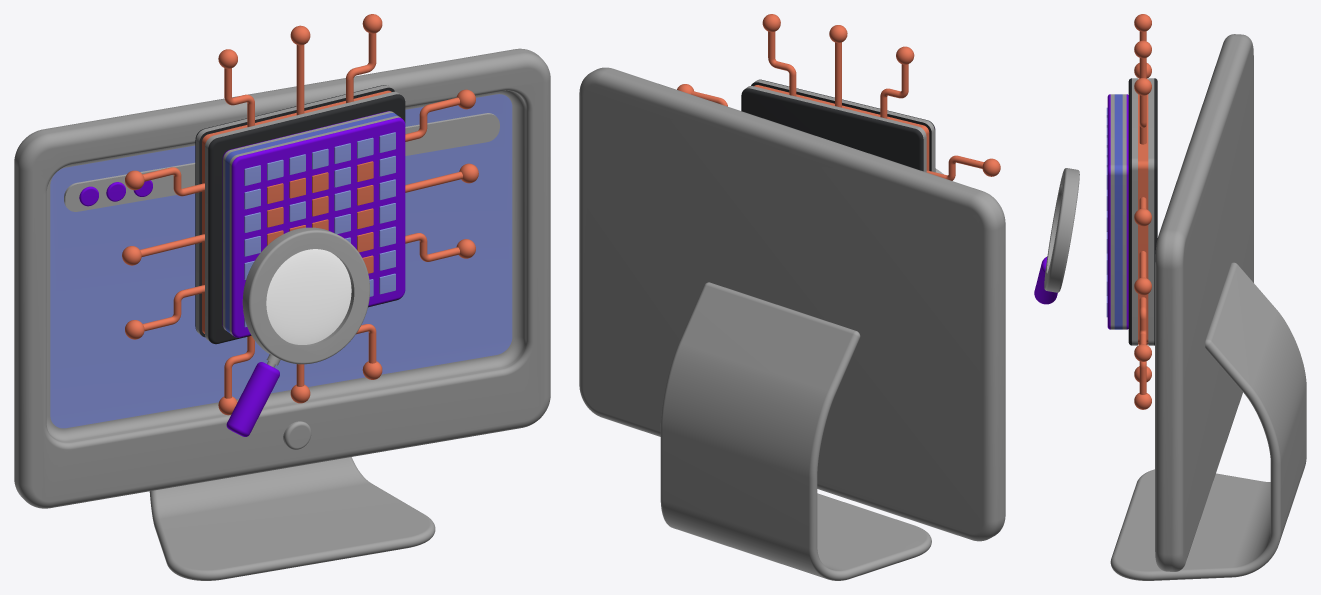
Rendered from ai-research-animated-icon-1115740729801.glb.
3 renders of one model, left to right at view 1: azimuth 30°, elevation 25°; view 2: azimuth 150°, elevation 25°; view 3: azimuth 270°, elevation 25°, orthographic. The views are drawn at different scales.
Visible parts, largest first — view 1: Cube.004, Plane.011, Cube.007, Sphere.002, Cube.005, Cylinder.005, Sphere.004, Cube.008, Plane.009, Cube.002, Cube.001, Cube.006 (+5 smaller); view 2: Cube.004, Plane.011, Cube.005, Sphere.002, Cube.001, Cube; view 3: Cube.004, Plane.011, Sphere.002, Cube.001, Cylinder.005, Cube.006, Cube.003, Cube.005, Cube.007, Cube, Cylinder.003, Cube.008.
Boxes of the visible parts, x1,y1,x2,y2 form: Cube.004: (14, 48, 550, 508); Plane.011: (149, 457, 435, 580); Cube.007: (222, 111, 405, 337); Sphere.002: (122, 14, 478, 415); Cube.005: (195, 85, 405, 344); Cylinder.005: (242, 227, 369, 364); Sphere.004: (266, 249, 351, 344); Cube.008: (244, 132, 395, 327); Plane.009: (64, 113, 499, 211); Cube.002: (267, 161, 373, 273); Cube.001: (196, 85, 400, 341); Cube.006: (223, 111, 400, 335); Cube.004: (579, 67, 1005, 541); Plane.011: (660, 282, 931, 580); Cube.005: (741, 79, 935, 171); Sphere.002: (677, 14, 1000, 180); Cube.001: (745, 80, 934, 172); Cube: (754, 85, 929, 170); Cube.004: (1155, 34, 1253, 571); Plane.011: (1110, 262, 1306, 580); Sphere.002: (1134, 14, 1151, 409); Cube.001: (1132, 78, 1154, 345); Cylinder.005: (1044, 168, 1079, 292); Cube.006: (1110, 94, 1126, 329); Cube.003: (1114, 94, 1122, 329); Cube.005: (1128, 78, 1157, 345); Cube.007: (1107, 94, 1128, 329); Cube: (1138, 94, 1148, 342); Cylinder.003: (1034, 256, 1057, 304); Cube.008: (1106, 107, 1107, 317).
Size of the model in its own units: 0.413 by 0.4264 by 0.2179.
